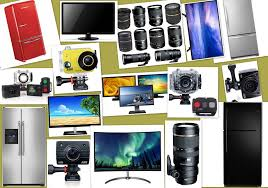Refrigerator: (3, 106, 45, 185), (225, 103, 262, 187), (7, 6, 44, 61), (226, 1, 259, 57)
